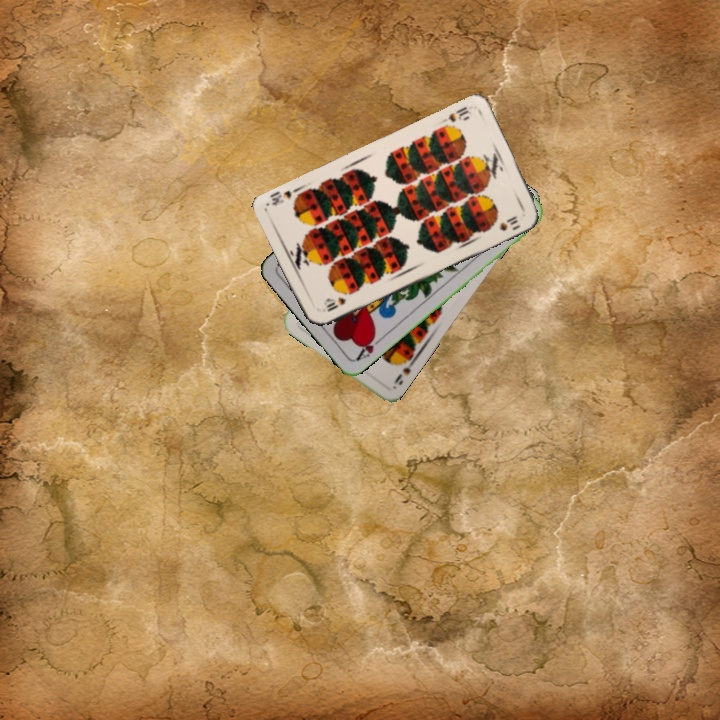HA: (351, 330, 386, 364)
S10: (436, 102, 472, 127), (318, 293, 348, 314)
S9: (389, 353, 419, 390)
